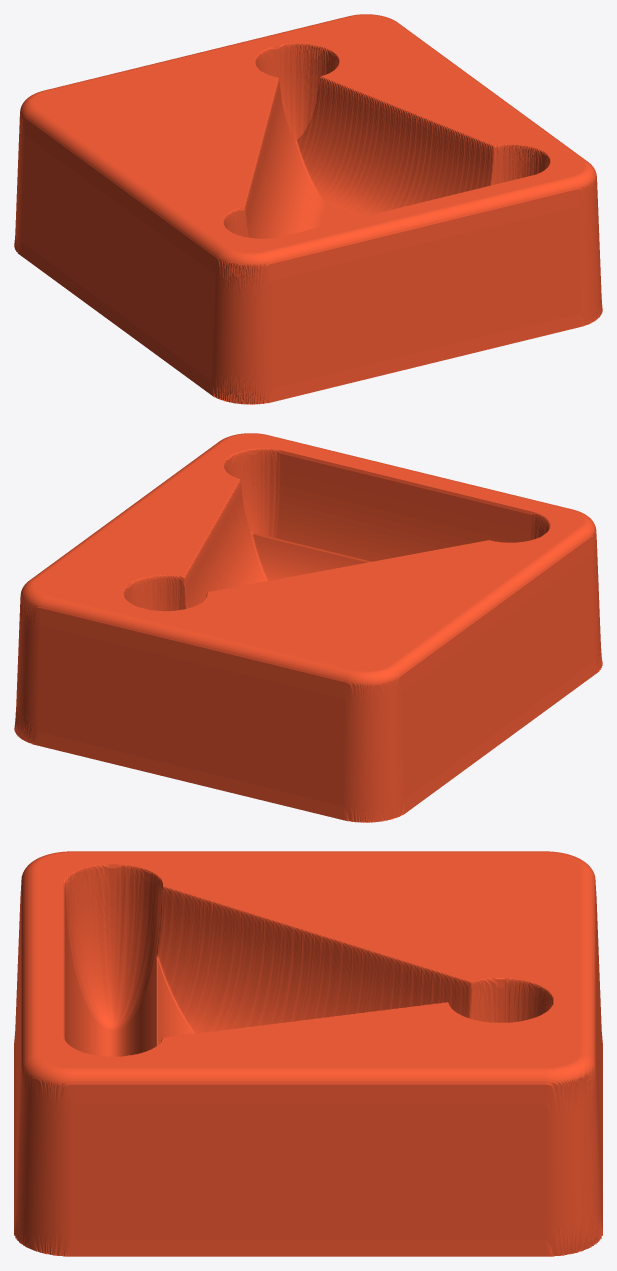
File: mold.glb
3 renders of one model, top to bottom at view 1: azimuth 30°, elevation 25°; view 2: azimuth 150°, elevation 25°; view 3: azimuth 270°, elevation 25°, orthographic. The views are drawn at different scales.
Parts seen in each view (by area): view 1: geometry_0; view 2: geometry_0; view 3: geometry_0.
Boxes of the visible parts, x1,y1,x2,y2 form: geometry_0: [14, 14, 602, 404]; geometry_0: [14, 433, 602, 822]; geometry_0: [14, 851, 602, 1256].
Size of the model in its own units: 0.087 by 0.031 by 0.0924.
